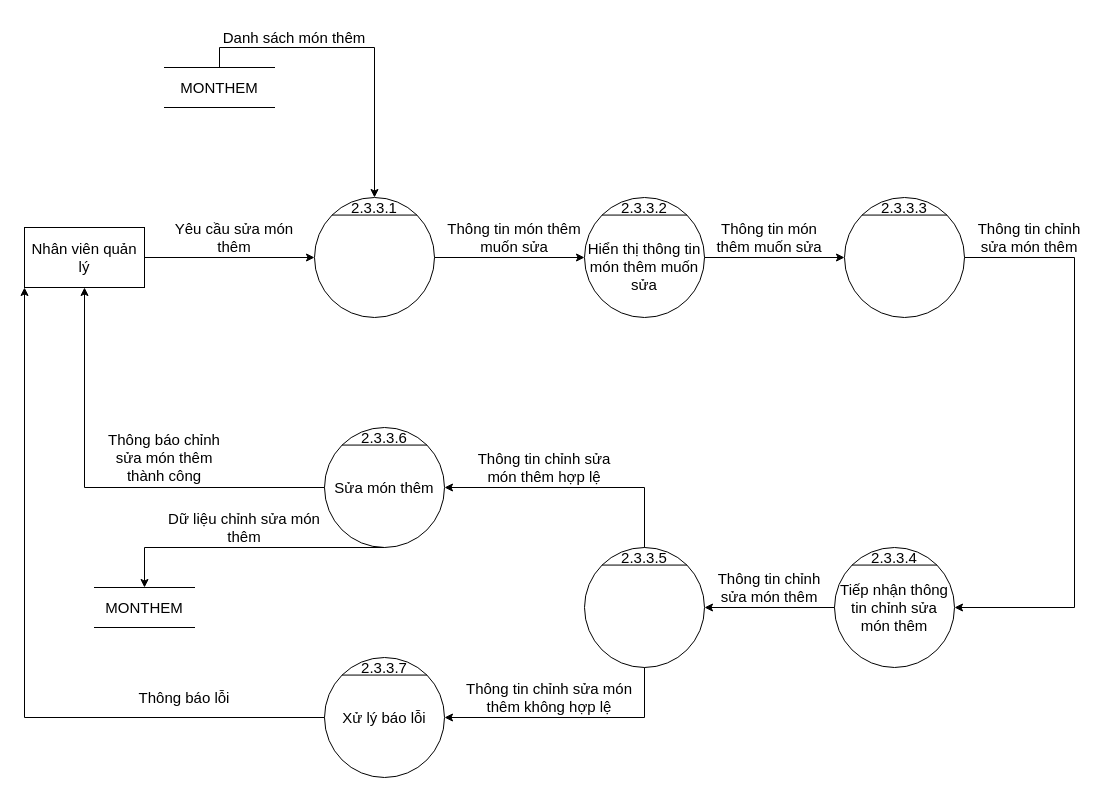
Image size: 1112x795. Some labels were removed from this diagram. The shapes that lost their labels are listed below. From the top down, each one's box as (x1, y1, x2, y2) in pixels, then its label:
(314, 196, 434, 318): Chọn món thêm muốn sửa
(844, 196, 964, 318): Nhập thông tin chỉnh sửa
(584, 546, 704, 668): Kiểm tra thông tin chỉnh sửa
